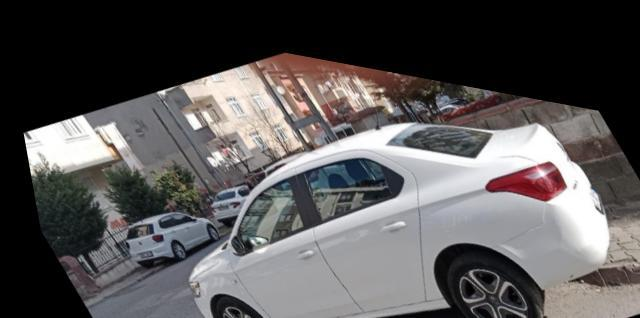scratch: (561, 252, 569, 258)
